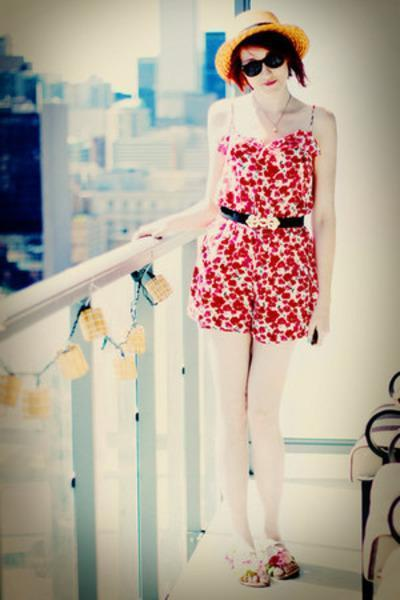dress: (186, 101, 327, 336)
